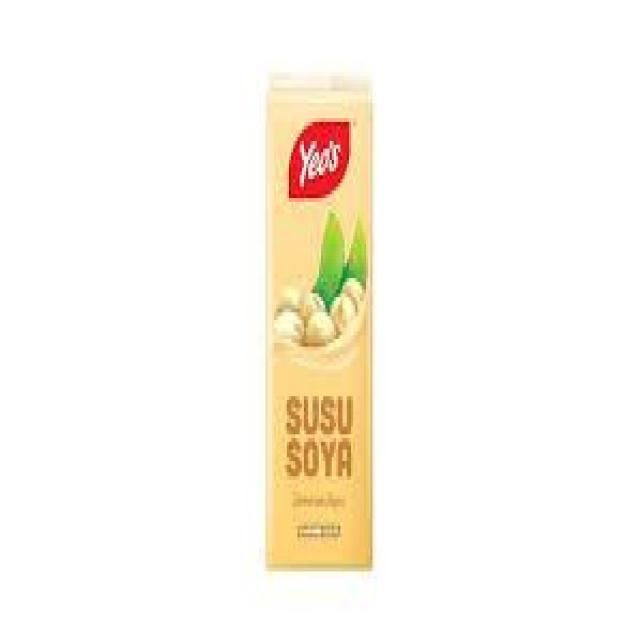drink carton: (266, 65, 374, 569)
